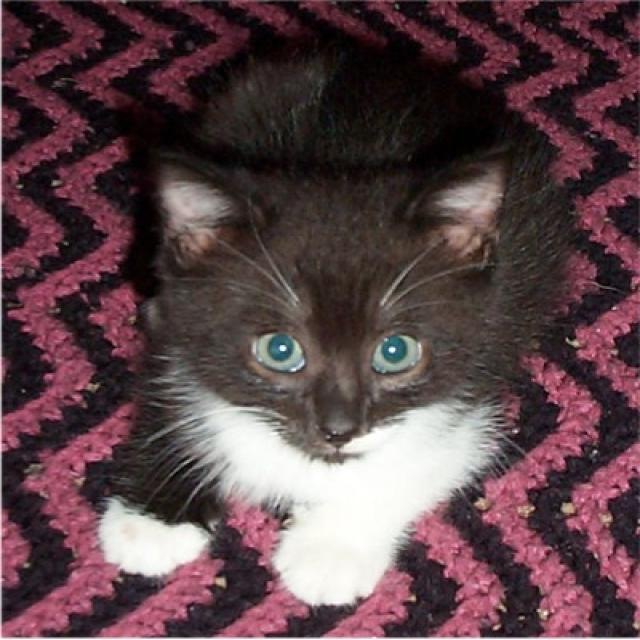cats: (100, 31, 572, 604)
